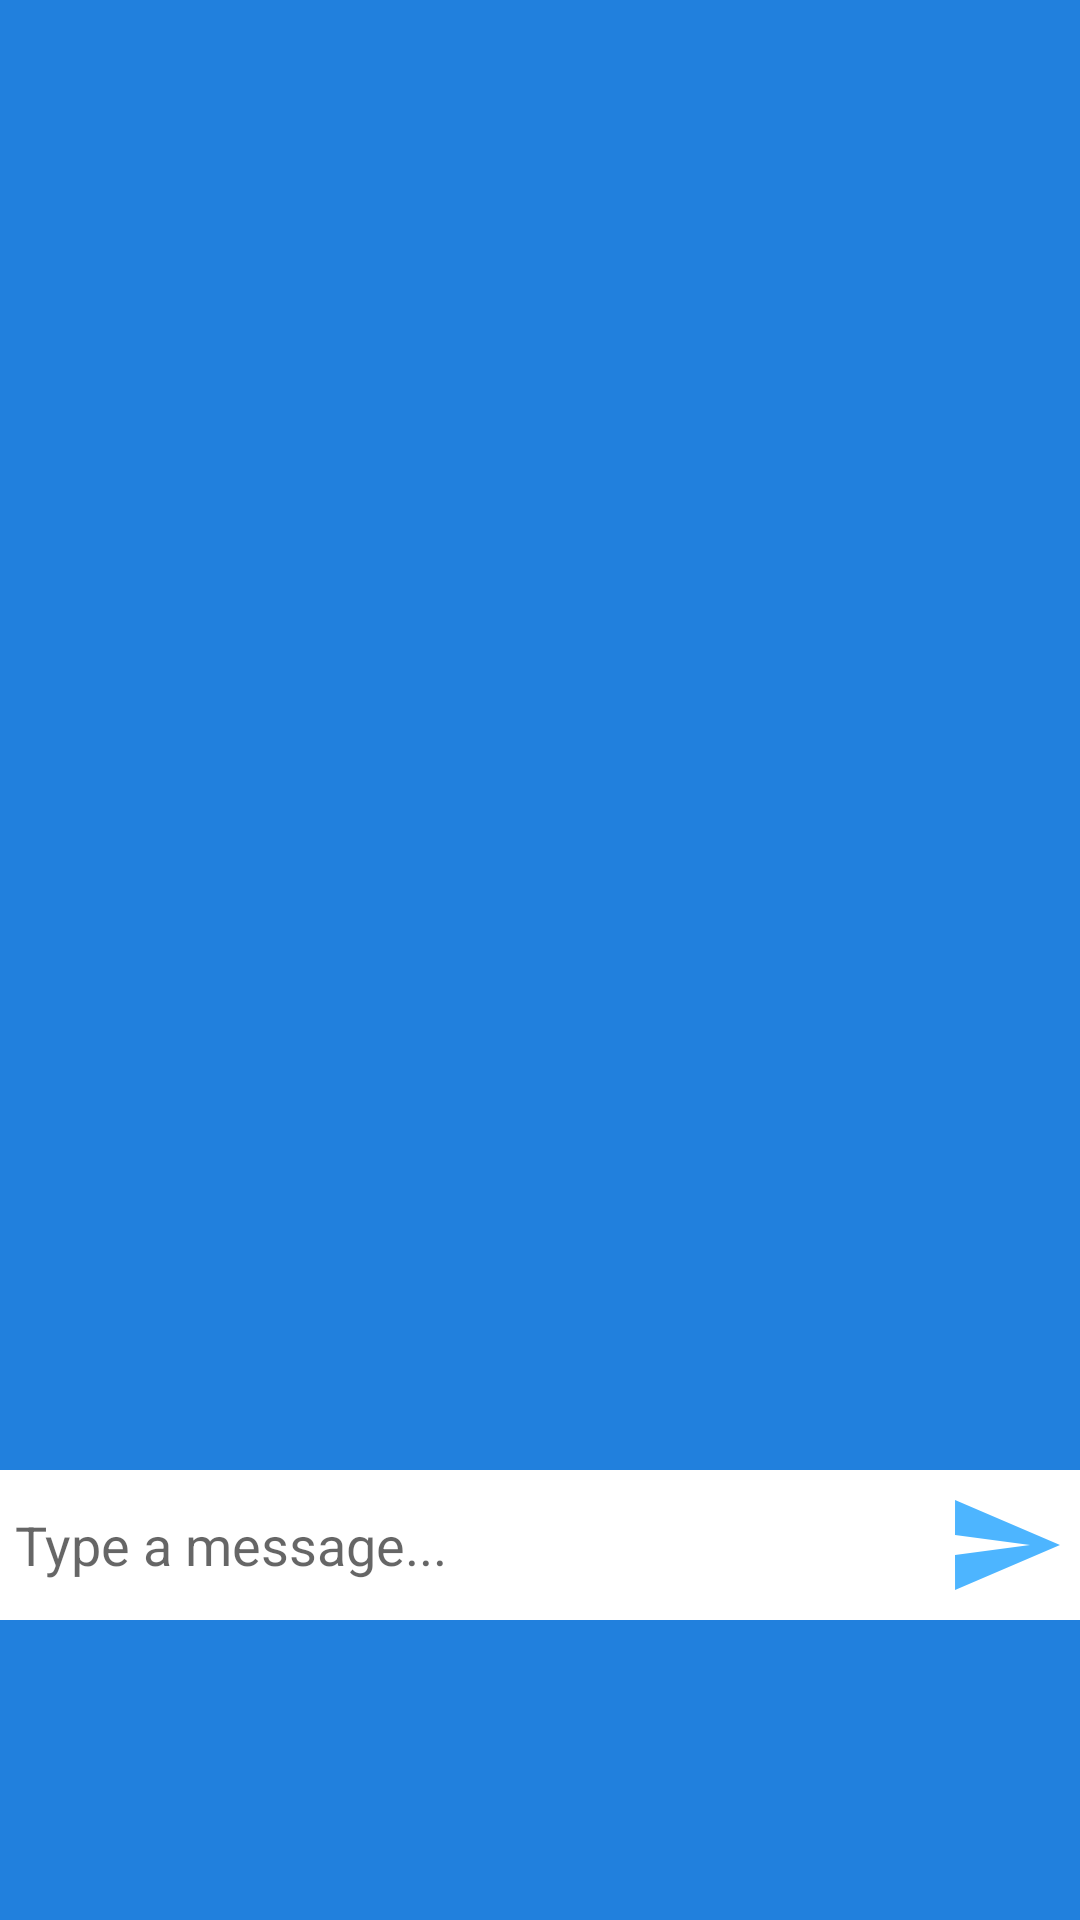

Icon click points for this 1080px x 1920px phone screenshot, format (x=x, y=y):
send: (x=1007, y=1545)
